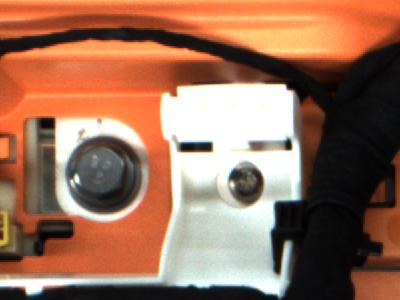nut_b: (63, 134, 150, 217)
